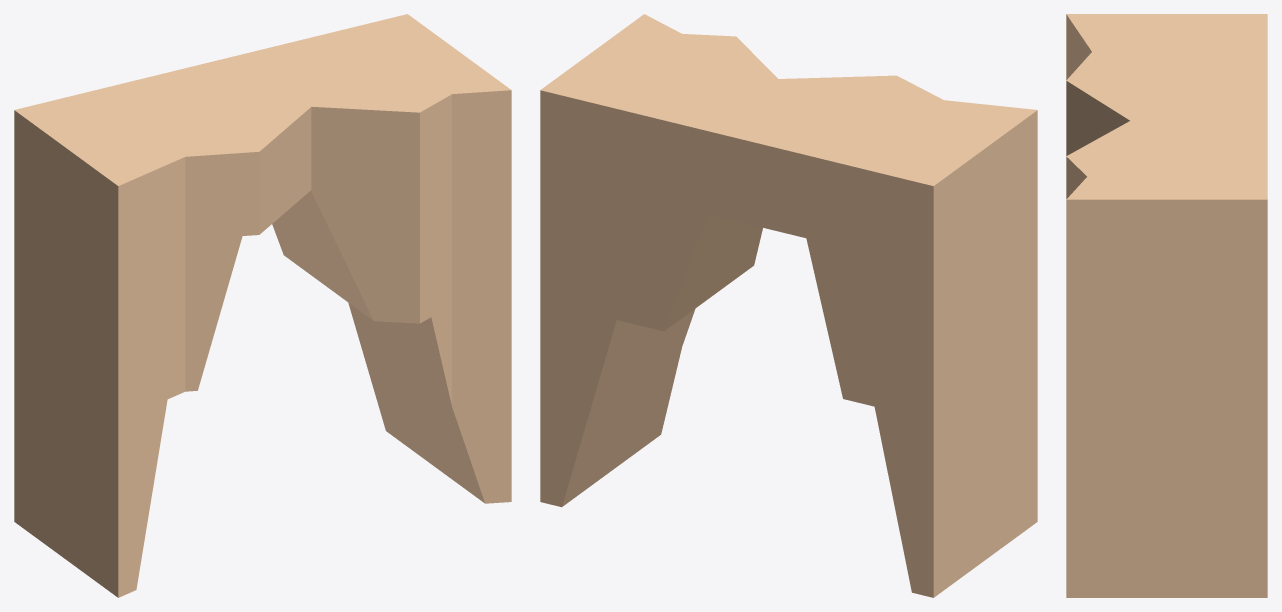
File: cliffBrown_entrance.glb
3 renders of one model, left to right at view 1: azimuth 30°, elevation 25°; view 2: azimuth 150°, elevation 25°; view 3: azimuth 270°, elevation 25°, orthographic. The views are drawn at different scales.
Visible parts, largest first — view 1: cliffBrown_entrance; view 2: cliffBrown_entrance; view 3: cliffBrown_entrance.
Part boxes in pixels (<box>): cliffBrown_entrance: <box>14,14,511,597</box>; cliffBrown_entrance: <box>540,14,1037,597</box>; cliffBrown_entrance: <box>1066,14,1267,597</box>.
Size of the model in its own units: 1 by 1 by 0.4584.
